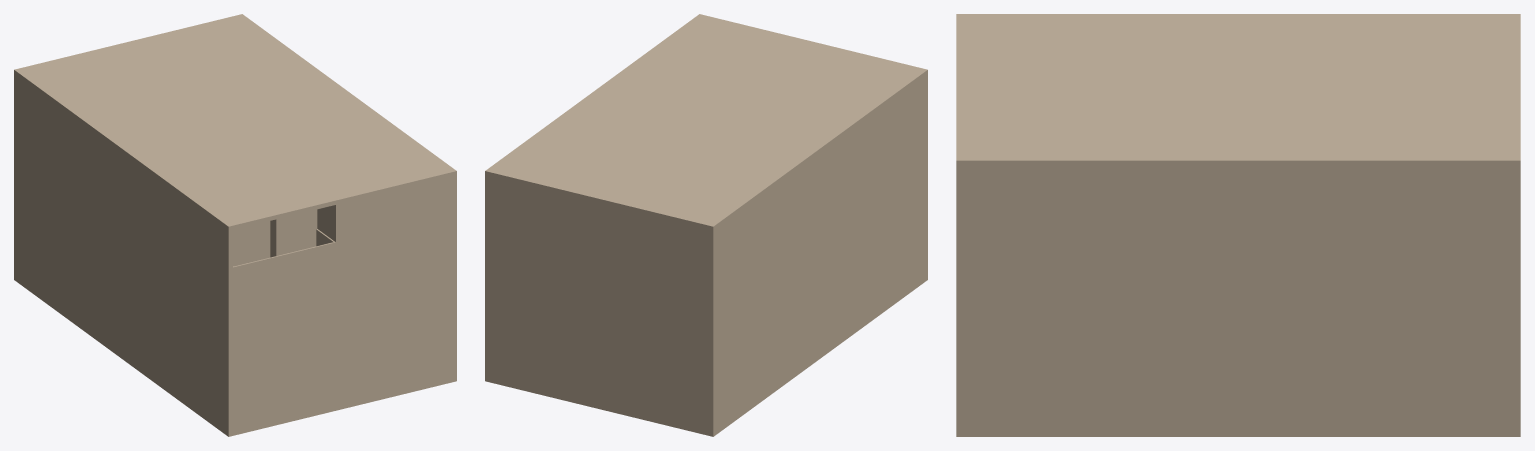
File: massing.glb
3 views of the same model, side by side, from view 1: azimuth 30°, elevation 25°; view 2: azimuth 150°, elevation 25°; view 3: azimuth 270°, elevation 25° (orthographic). The views are drawn at different scales.
Visible parts, largest first — view 1: building/exterior; view 2: building/exterior; view 3: building/exterior.
Boxes of the visible parts, box(x1,y1,x2,y2) form: building/exterior: box(14, 14, 456, 436); building/exterior: box(485, 14, 927, 436); building/exterior: box(956, 14, 1520, 436).
Bounding box in the file's own units: 10 × 8.8 × 16.27.
